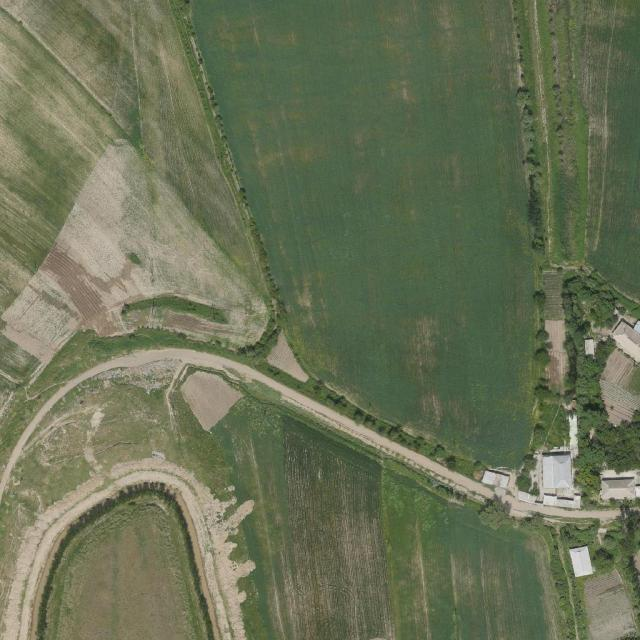agricultural_land: (193, 0, 552, 490), (39, 485, 214, 640), (537, 524, 589, 640), (541, 269, 569, 386), (600, 349, 640, 424), (545, 319, 569, 392)
building: (608, 320, 640, 364), (541, 451, 573, 489), (569, 546, 593, 578), (542, 493, 581, 508), (481, 470, 511, 488), (582, 337, 597, 356), (542, 494, 557, 508), (517, 492, 534, 502), (624, 486, 635, 491)
dryland: (171, 359, 244, 432)
greenland: (170, 0, 272, 283), (301, 375, 452, 469), (564, 275, 619, 494), (589, 500, 640, 580), (521, 155, 553, 253), (230, 322, 291, 371), (526, 375, 562, 422), (542, 406, 578, 453), (441, 451, 485, 481), (558, 520, 601, 549), (534, 340, 550, 372)
unmetalled_road: (511, 501, 619, 522)
